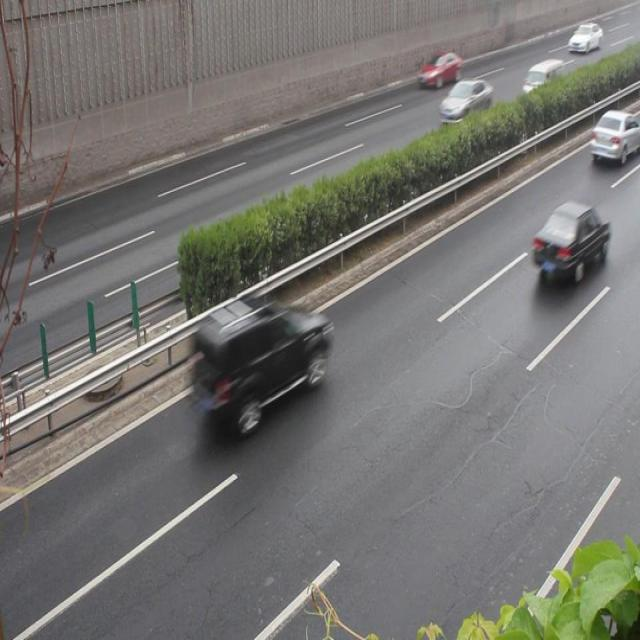car: (192, 293, 330, 430), (532, 200, 609, 288), (438, 80, 492, 130), (588, 110, 640, 160), (417, 48, 460, 92)
truck: (518, 61, 564, 110)
